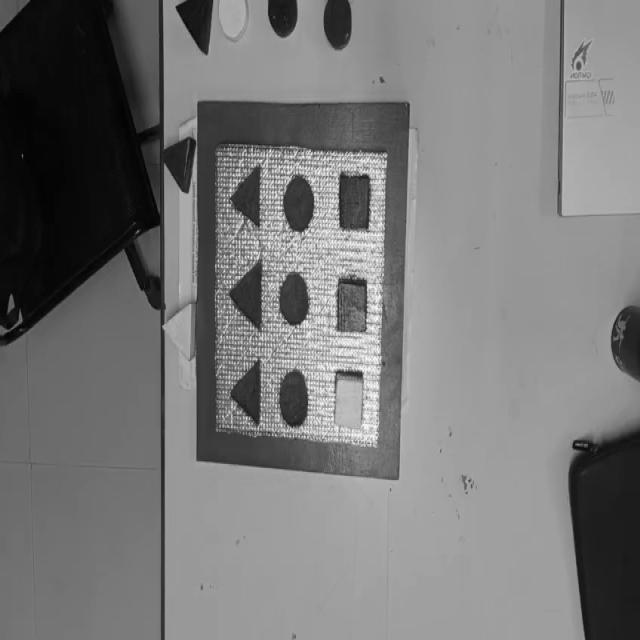bcircle: (268, 0, 298, 38)
bcube: (339, 174, 370, 232)
btriangle: (175, 0, 212, 56)
mtcircle: (283, 174, 314, 231), (279, 270, 310, 326), (279, 369, 308, 428)
mttriangle: (229, 258, 263, 329), (229, 360, 262, 426), (230, 164, 262, 228)
rcircle: (323, 0, 352, 48)
rcube: (337, 278, 367, 333)
rtriangle: (162, 136, 196, 195)
wb: (212, 141, 388, 452)
ycircle: (218, 0, 248, 43)
ycube: (334, 371, 364, 431)
ytriangle: (161, 302, 196, 361)
